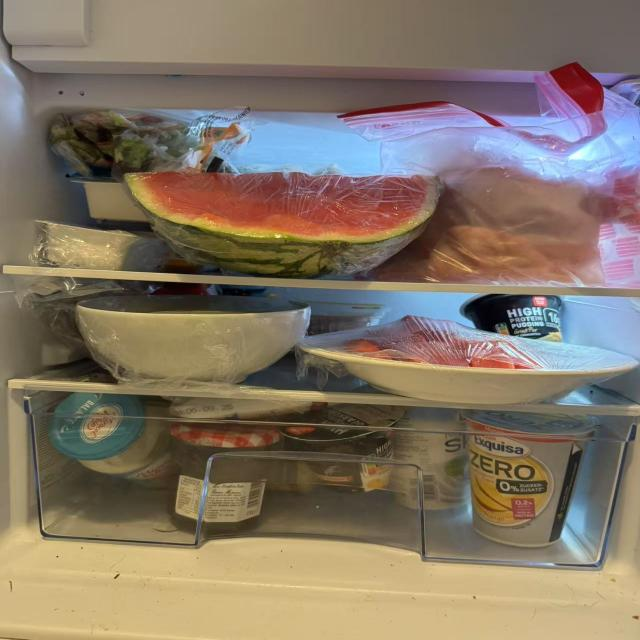Bowl: (49, 282, 313, 391)
Fruit: (291, 302, 640, 408)
Green vegetable: (34, 94, 227, 174)
Jam: (157, 406, 286, 545)
Watermelon: (112, 160, 452, 278)
Yogurt: (469, 413, 600, 562)
